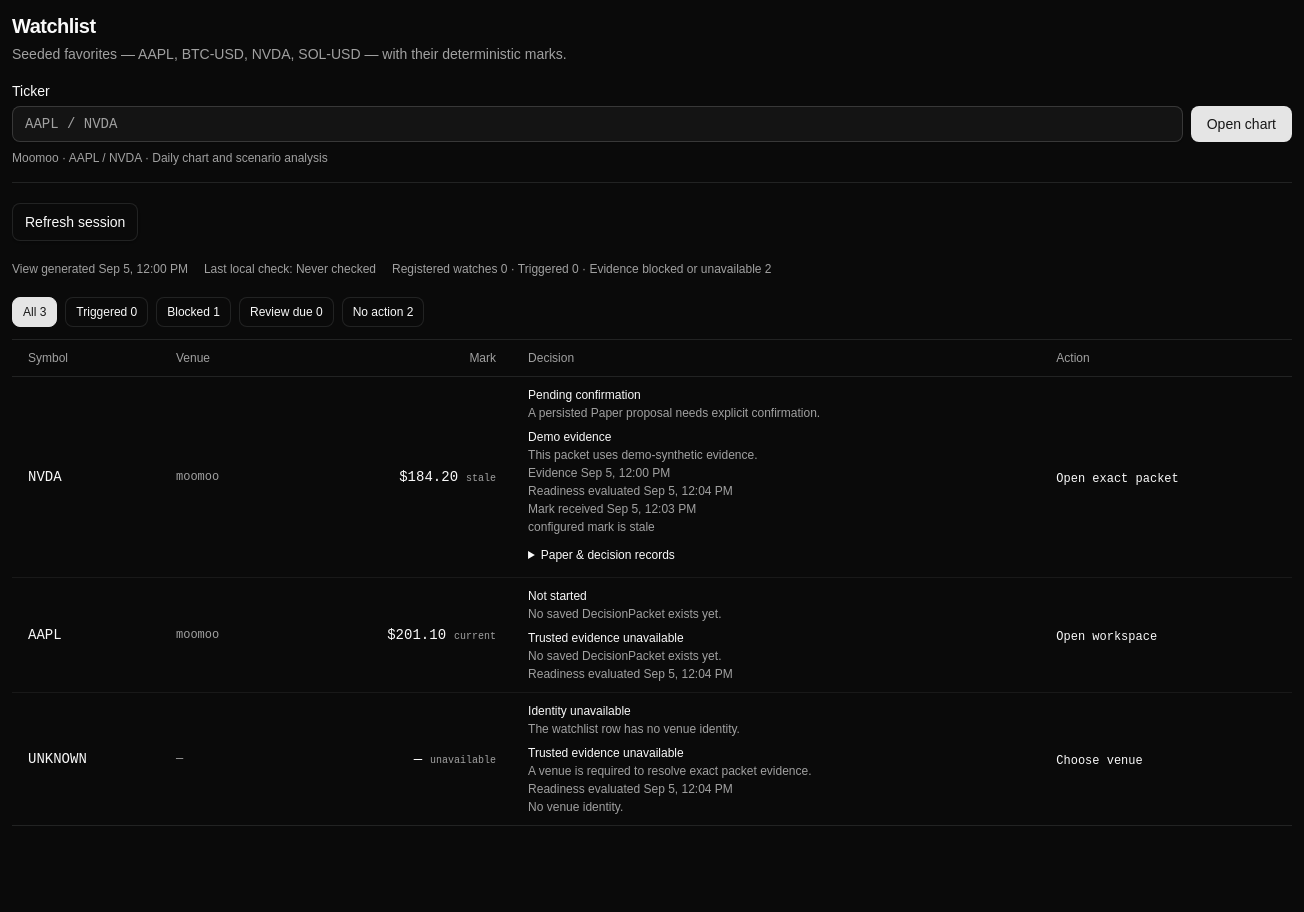
Test: renders the en-US complete explicit refresh outcome
What coordinates should you click on to do the following:
click the button "Refresh session"
I would click on:
 (75, 222)
Its box is [12,203,138,241].
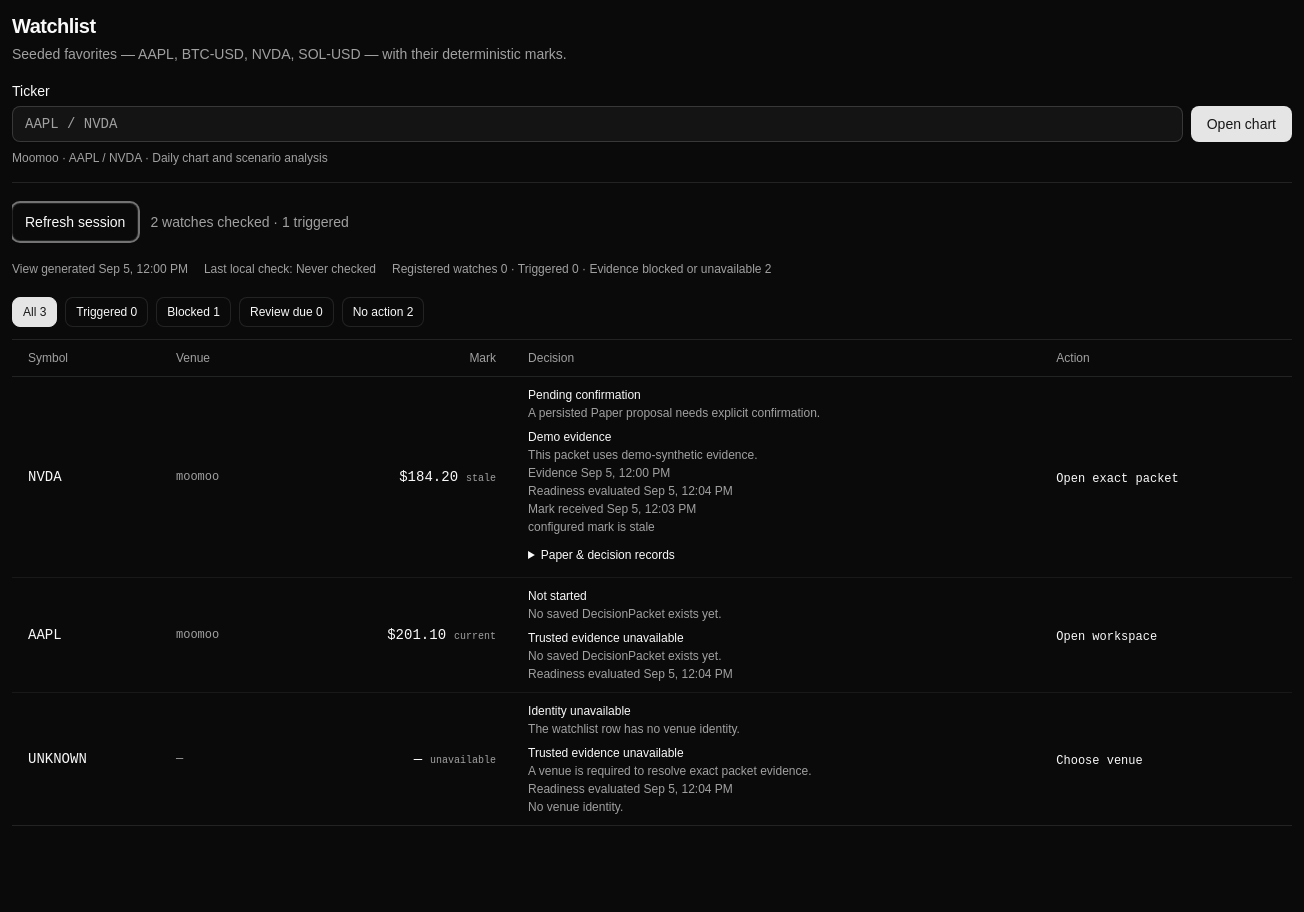
expect the text "2 watches checked · 1 triggered" is shown: met, box [150,212,349,232]
